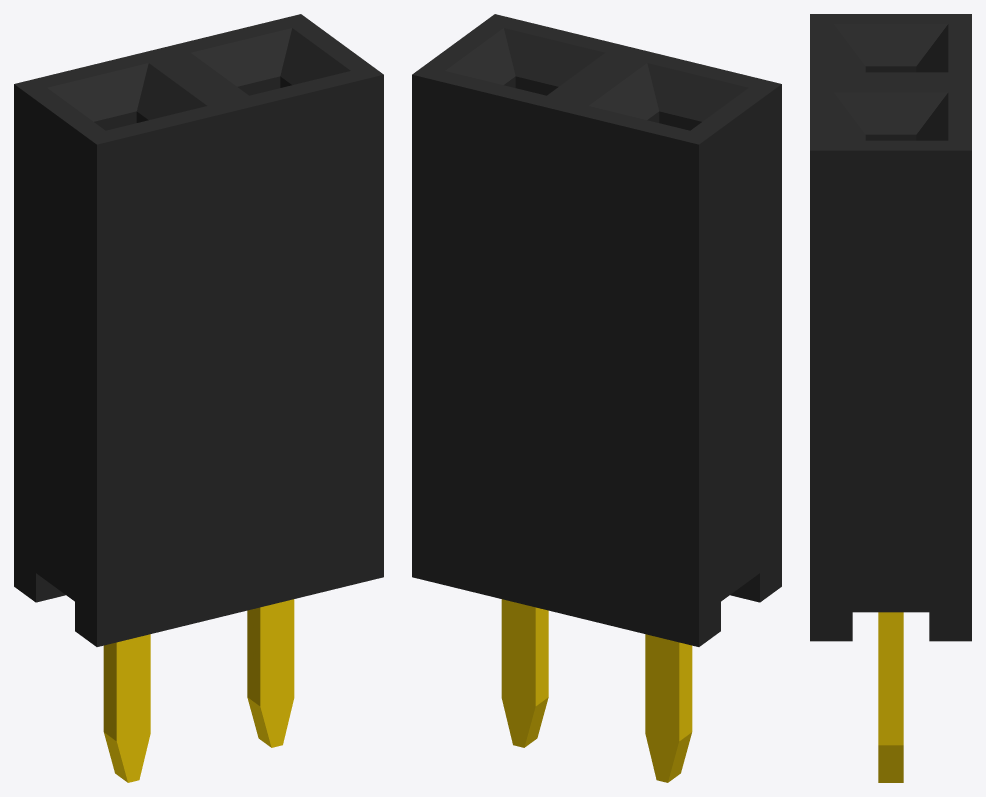
Rendered from PBS2.glb.
The picture shows the model from 3 angles, left to right: view 1: azimuth 30°, elevation 25°; view 2: azimuth 150°, elevation 25°; view 3: azimuth 270°, elevation 25°; orthographic projection. The views are drawn at different scales.
Parts seen in each view (by area): view 1: PBS (DS1023 CONNFLY); view 2: PBS (DS1023 CONNFLY); view 3: PBS (DS1023 CONNFLY).
Part boxes in pixels (left/top/right/bottom): PBS (DS1023 CONNFLY): left=14, top=14, right=383, bottom=782; PBS (DS1023 CONNFLY): left=412, top=14, right=781, bottom=782; PBS (DS1023 CONNFLY): left=810, top=14, right=971, bottom=782.
Bounding box in the file's own units: 0.00508 × 0.0115 × 0.00254.
